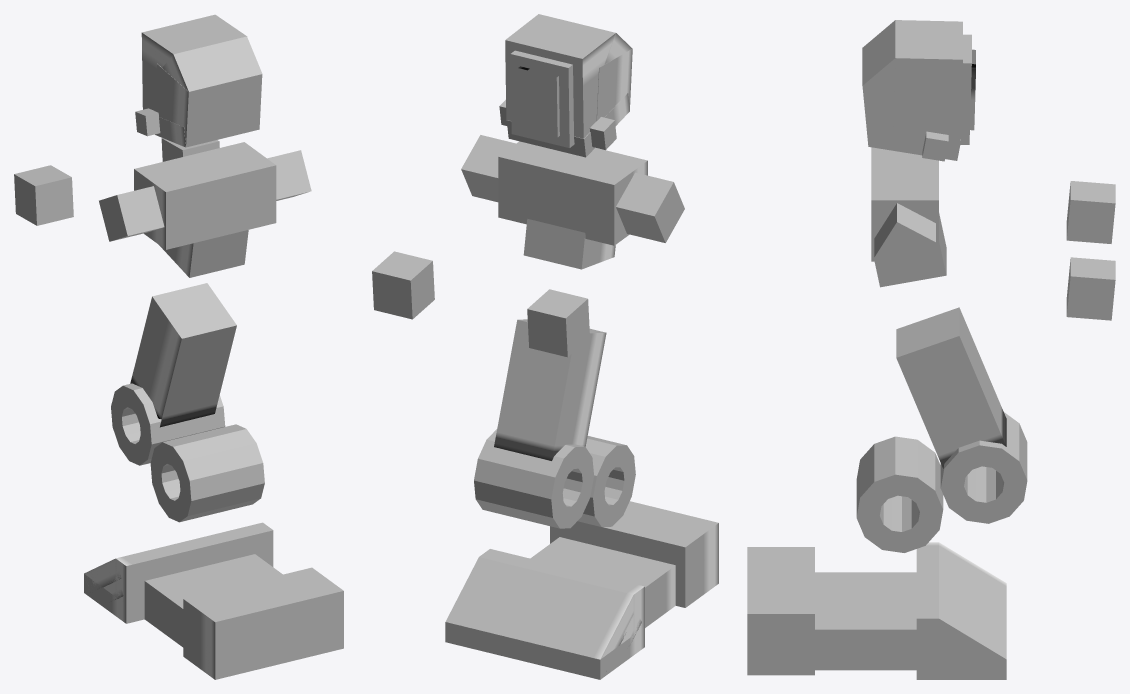
Rendered from robot.obj.
3 views of the same model, side by side, from view 1: azimuth 30°, elevation 25°; view 2: azimuth 150°, elevation 25°; view 3: azimuth 270°, elevation 25° (orthographic). The views are drawn at different scales.
Visible parts, largest first — view 1: shape48, shape1, shape2.000, shape51, shape44, shape42, shape51.001, shape51.000, shape6, shape3, shape2, shape11.012 (+12 smaller); view 2: shape1, shape2.000, shape44.000, shape48, shape51.001, shape42, shape43, shape6, shape6.000, shape3, shape44.001, shape54 (+11 smaller); view 3: shape2.000, shape42, shape48, shape51.001, shape44.000, shape1, shape3.000, shape6.000, shape6, shape44, shape51.000, shape43 (+21 smaller).
Boxes of the visible parts, x1=… form: shape48: x1=183, y1=567, x2=343, y2=679; shape1: x1=134, y1=142, x2=276, y2=249; shape2.000: x1=130, y1=283, x2=236, y2=427; shape51: x1=154, y1=63, x2=262, y2=147; shape44: x1=115, y1=522, x2=273, y2=604; shape42: x1=144, y1=554, x2=282, y2=647; shape51.001: x1=141, y1=14, x2=246, y2=110; shape51.000: x1=162, y1=36, x2=262, y2=91; shape6: x1=14, y1=165, x2=73, y2=225; shape3: x1=99, y1=186, x2=164, y2=241; shape2: x1=159, y1=230, x2=248, y2=277; shape11.012: x1=175, y1=443, x2=262, y2=486; shape1: x1=498, y1=141, x2=647, y2=245; shape2.000: x1=494, y1=319, x2=606, y2=460; shape44.000: x1=455, y1=557, x2=633, y2=653; shape48: x1=550, y1=501, x2=718, y2=607; shape51.001: x1=505, y1=14, x2=615, y2=138; shape42: x1=530, y1=537, x2=675, y2=627; shape43: x1=445, y1=622, x2=644, y2=679; shape6: x1=527, y1=289, x2=589, y2=357; shape6.000: x1=372, y1=251, x2=434, y2=319; shape3: x1=616, y1=172, x2=684, y2=242; shape44.001: x1=445, y1=604, x2=608, y2=671; shape54: x1=510, y1=50, x2=574, y2=147; shape2.000: x1=896, y1=307, x2=1006, y2=468; shape42: x1=815, y1=572, x2=916, y2=670; shape48: x1=747, y1=547, x2=814, y2=675; shape51.001: x1=893, y1=20, x2=962, y2=141; shape44.000: x1=939, y1=542, x2=994, y2=669; shape1: x1=871, y1=147, x2=938, y2=261; shape3.000: x1=874, y1=203, x2=935, y2=277; shape6.000: x1=1066, y1=257, x2=1115, y2=320; shape6: x1=1066, y1=181, x2=1115, y2=243; shape44: x1=916, y1=542, x2=938, y2=659; shape51.000: x1=862, y1=20, x2=895, y2=115; shape43: x1=916, y1=659, x2=1006, y2=679.
Bounding box in the file's own units: 0.6263 × 1.85 × 1.02.
